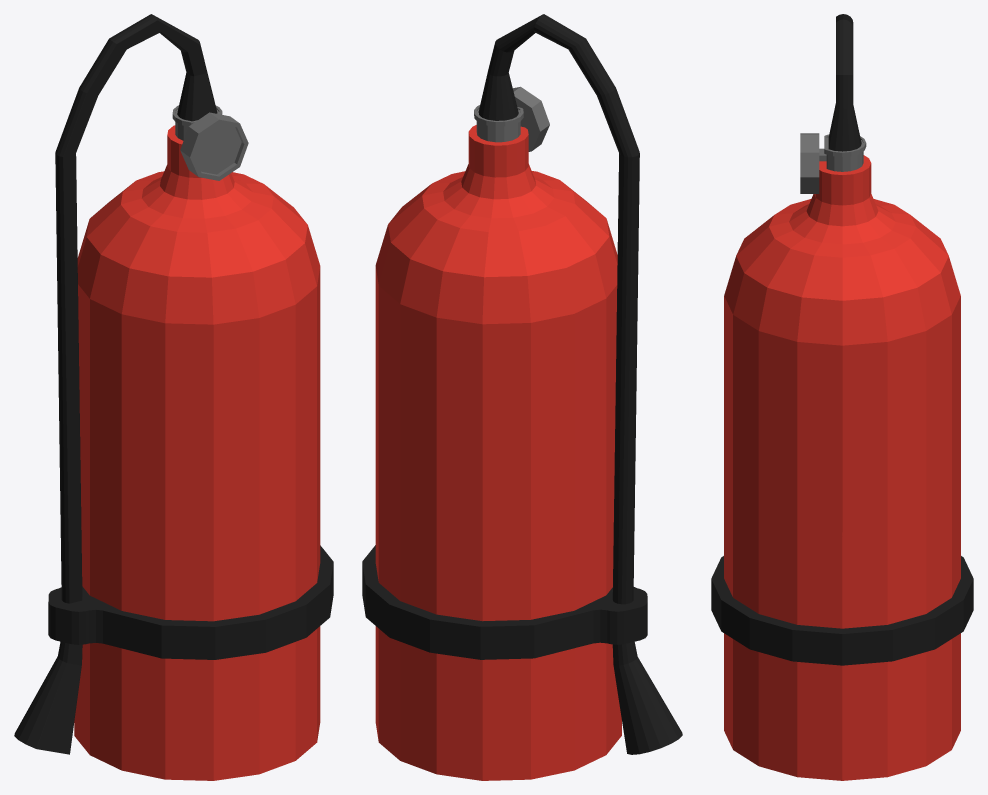
File: fireExtinguisher.fbx
3 renders of one model, left to right at view 1: azimuth 30°, elevation 25°; view 2: azimuth 150°, elevation 25°; view 3: azimuth 270°, elevation 25°, orthographic. The views are drawn at different scales.
Visible parts, largest first — view 1: Cylinder; view 2: Cylinder; view 3: Cylinder.
Boxes of the visible parts, x1,y1,x2,y2 form: Cylinder: [14, 14, 333, 780]; Cylinder: [362, 14, 682, 780]; Cylinder: [711, 14, 973, 780].
Bounding box in the file's own units: 6948 × 16107 × 5542.
